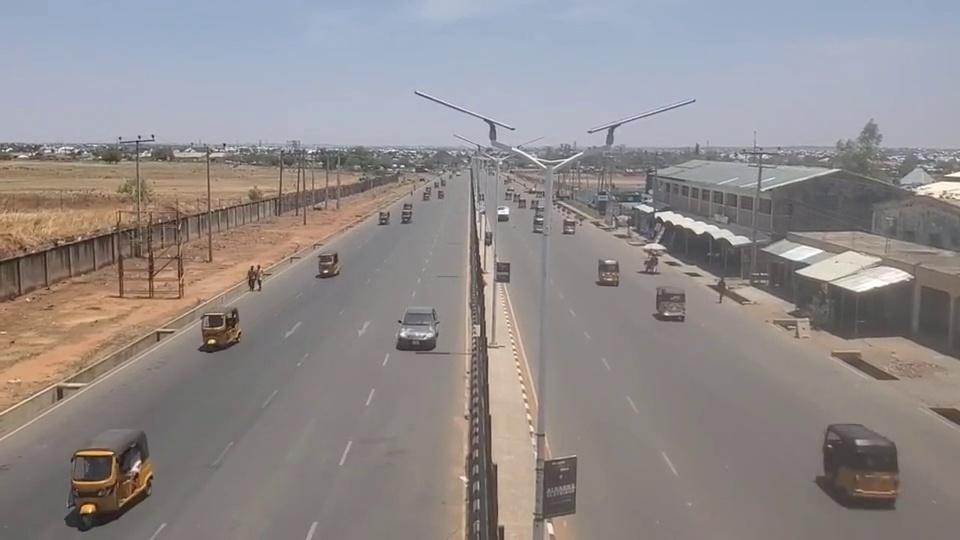car: (396, 306, 441, 350)
keke: (65, 427, 153, 530), (821, 422, 899, 505), (200, 306, 241, 350), (655, 286, 686, 321), (597, 258, 620, 286), (318, 251, 341, 278), (563, 218, 576, 234), (533, 213, 544, 231), (378, 210, 390, 225)
